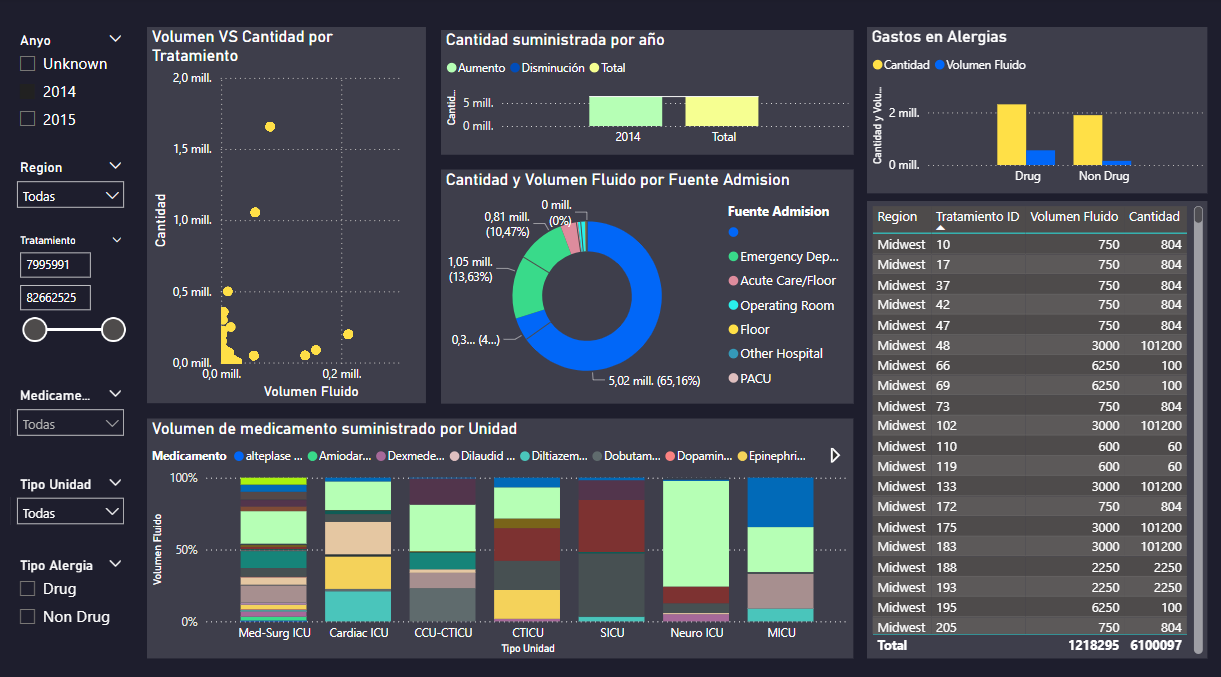

The dashboard page shown, as its layout file describes it:
{"tool":"powerbi","page":{"name":"Página 1","canvas":[1280,720],"ordinal":0},"visuals":[{"type":"waterfallChart","title":"Cantidad suministrada por año","fields":{"Category":["Anyo.Jerarquía.Anyo"],"Y":["Gasto Medicamento (Measures).Cantidad"]},"box":[465.8,34.4,429.8,129.7],"z":0},{"type":"hundredPercentStackedColumnChart","title":"Volumen de medicamento suministrado por Unidad","fields":{"Category":["Ingreso UCI.Tipo Unidad"],"Y":["Gasto Medicamento (Measures).Volumen Fluido"],"Series":["Medicamento.Nombre Medicamento"]},"box":[159.4,439.2,736.2,250.1],"z":1000},{"type":"scatterChart","title":"Volumen VS Cantidad por  Tratamiento","fields":{"Category":["Tratamiento.Nombre Tratamiento"],"X":["Gasto Medicamento (Measures).Volumen Fluido"],"Y":["Gasto Medicamento (Measures).Cantidad"]},"box":[159.4,31.3,290.7,392.3],"z":2000},{"type":"donutChart","fields":{"Category":["Ingreso UCI.Fuente Admision"],"Y":["Gasto Medicamento (Measures).Cantidad","Gasto Medicamento (Measures).Volumen Fluido"]},"box":[465.8,179.7,429.8,243.8],"z":3000},{"type":"tableEx","fields":{"Values":["Hospital.Hospital.Region","Tratamiento.Tratamiento ID","Gasto Medicamento (Measures).Volumen Fluido","Gasto Medicamento (Measures).Cantidad"]},"box":[909.7,212.6,354.8,476.7],"z":4000},{"type":"lineClusteredColumnComboChart","title":"Gastos en Alergias","fields":{"Category":["Alergia.Tipo Alergia"],"Y":["Gasto Medicamento (Measures).Cantidad","Gasto Medicamento (Measures).Volumen Fluido"]},"box":[909.7,31.3,354.8,173.5],"z":5000},{"type":"slicer","fields":{"Values":["Anyo.Jerarquía.Anyo"]},"box":[14.1,31.3,131.3,117.2],"z":6000},{"type":"slicer","fields":{"Values":["Hospital.Hospital.Region"]},"box":[14.1,164.1,131.3,64.1],"z":7000},{"type":"slicer","fields":{"Values":["Tratamiento.Nombre Tratamiento"]},"box":[14.1,242.3,131.3,145.4],"z":8000},{"type":"slicer","fields":{"Values":["Medicamento.Nombre Medicamento"]},"box":[14.1,401.7,131.3,75],"z":9000},{"type":"slicer","fields":{"Values":["Ingreso UCI.Tipo Unidad"]},"box":[14.1,493.9,131.3,70.3],"z":10000},{"type":"slicer","fields":{"Values":["Alergia.Tipo Alergia"]},"box":[14.1,578.3,131.3,111],"z":11000}]}

Visuals, with their boxes in screenshot pixels (x1, y1, x2, y2), scaled from the page's 1280x720 canvas onto the 1221x677 screenshot:
"Cantidad suministrada por año" waterfallChart: 444, 32, 854, 154
"Volumen de medicamento suministrado por Unidad" hundredPercentStackedColumnChart: 152, 413, 854, 648
"Volumen VS Cantidad por  Tratamiento" scatterChart: 152, 29, 429, 398
donutChart - Ingreso UCI.Fuente Admision x Gasto Medicamento (Measures).Cantidad: 444, 169, 854, 398
tableEx - Hospital.Hospital.Region x Tratamiento.Tratamiento ID: 868, 200, 1206, 648
"Gastos en Alergias" lineClusteredColumnComboChart: 868, 29, 1206, 193
slicer - Anyo.Jerarquía.Anyo: 13, 29, 139, 140
slicer - Hospital.Hospital.Region: 13, 154, 139, 215
slicer - Tratamiento.Nombre Tratamiento: 13, 228, 139, 365
slicer - Medicamento.Nombre Medicamento: 13, 378, 139, 448
slicer - Ingreso UCI.Tipo Unidad: 13, 464, 139, 531
slicer - Alergia.Tipo Alergia: 13, 544, 139, 648
